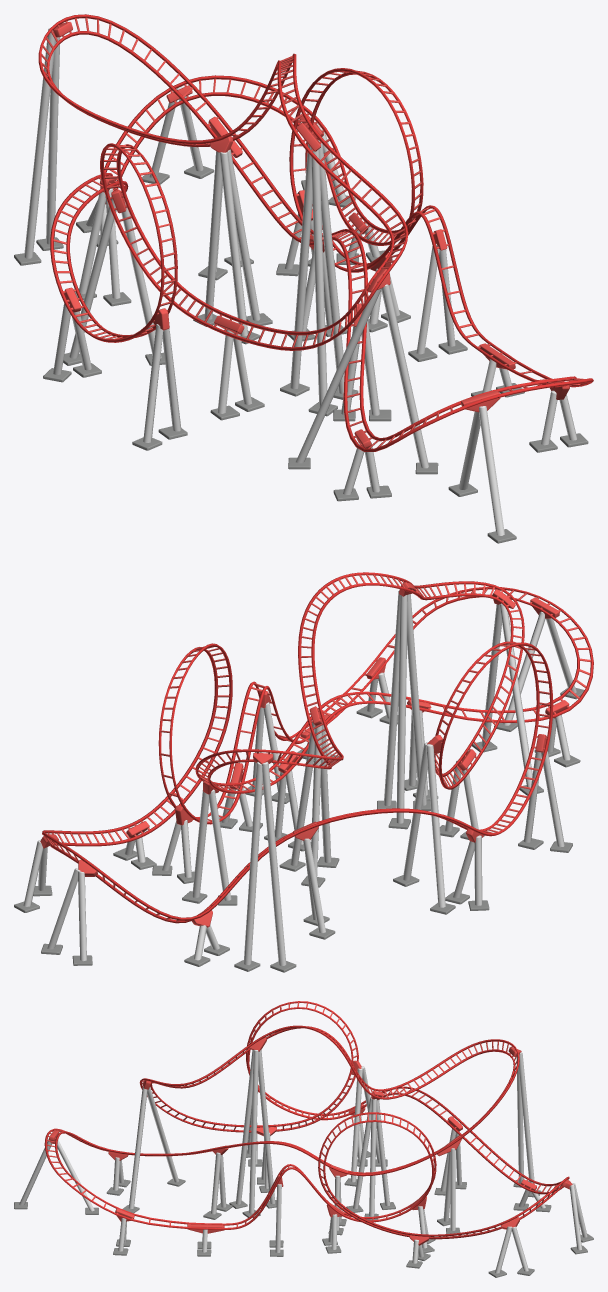
File: roller_coaster_001.gltf
3 views of the same model, one above another, from view 1: azimuth 30°, elevation 25°; view 2: azimuth 150°, elevation 25°; view 3: azimuth 270°, elevation 25° (orthographic). The views are drawn at different scales.
Parts seen in each view (by area): view 1: roller_coaster_001; view 2: roller_coaster_001; view 3: roller_coaster_001.
Boxes of the visible parts, x1,y1,x2,y2 form: roller_coaster_001: (14, 14, 593, 543); roller_coaster_001: (14, 572, 593, 972); roller_coaster_001: (14, 1001, 593, 1277).
Bounding box in the file's own units: 42.29 × 29.1 × 81.74.
1 material, 1 textured.
